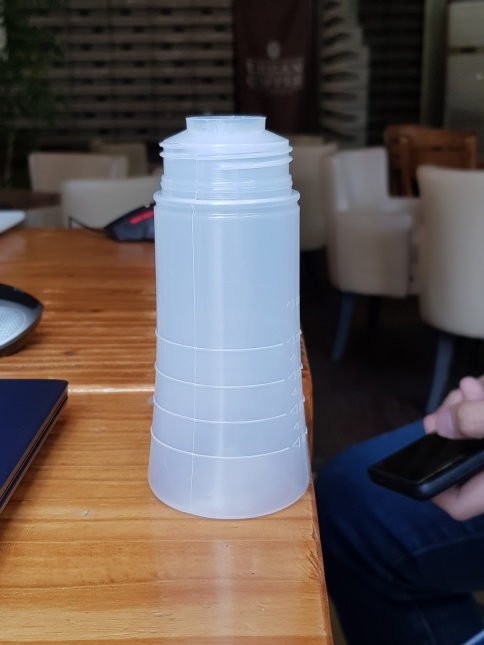Plastic: (141, 108, 315, 524)
